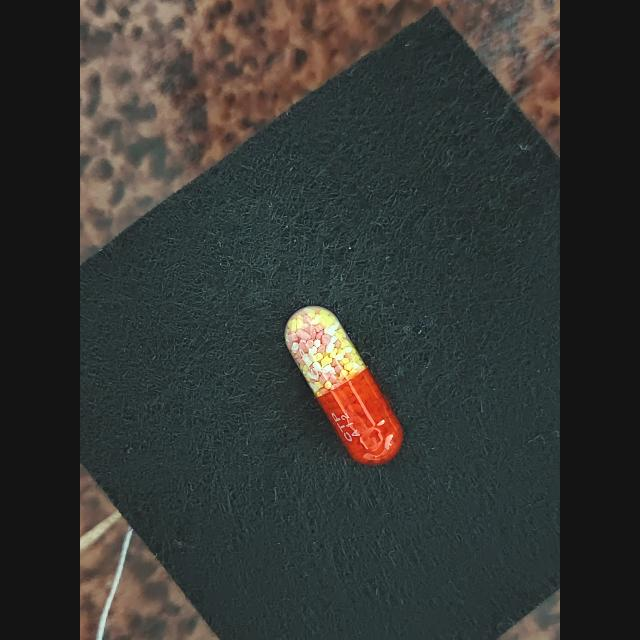Intact Capsule: (284, 306, 403, 465)
